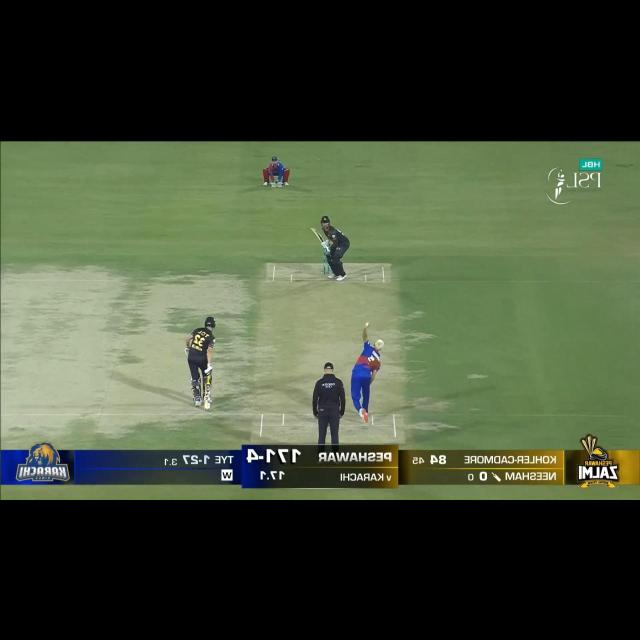bat: (307, 226, 324, 243), (203, 382, 211, 411)
toe: (308, 226, 319, 234), (204, 404, 212, 411)
